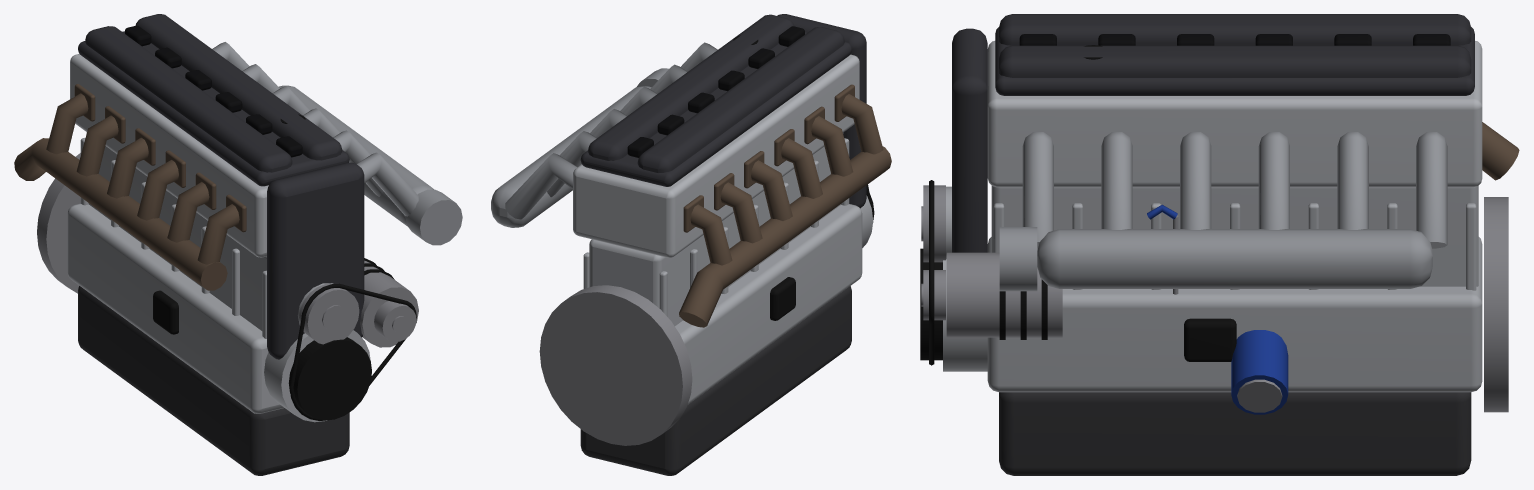
The picture shows the model from 3 angles, left to right: view 1: azimuth 30°, elevation 25°; view 2: azimuth 150°, elevation 25°; view 3: azimuth 270°, elevation 25°; orthographic projection. The views are drawn at different scales.
Parts seen in each view (by area): view 1: n52b30_3l_na; view 2: n52b30_3l_na; view 3: n52b30_3l_na.
Part boxes in pixels (<box>): n52b30_3l_na: <box>14,14,462,475</box>; n52b30_3l_na: <box>491,14,891,475</box>; n52b30_3l_na: <box>920,14,1519,475</box>.
Size of the model in its own units: 0.5076 by 0.6104 by 0.8009.
